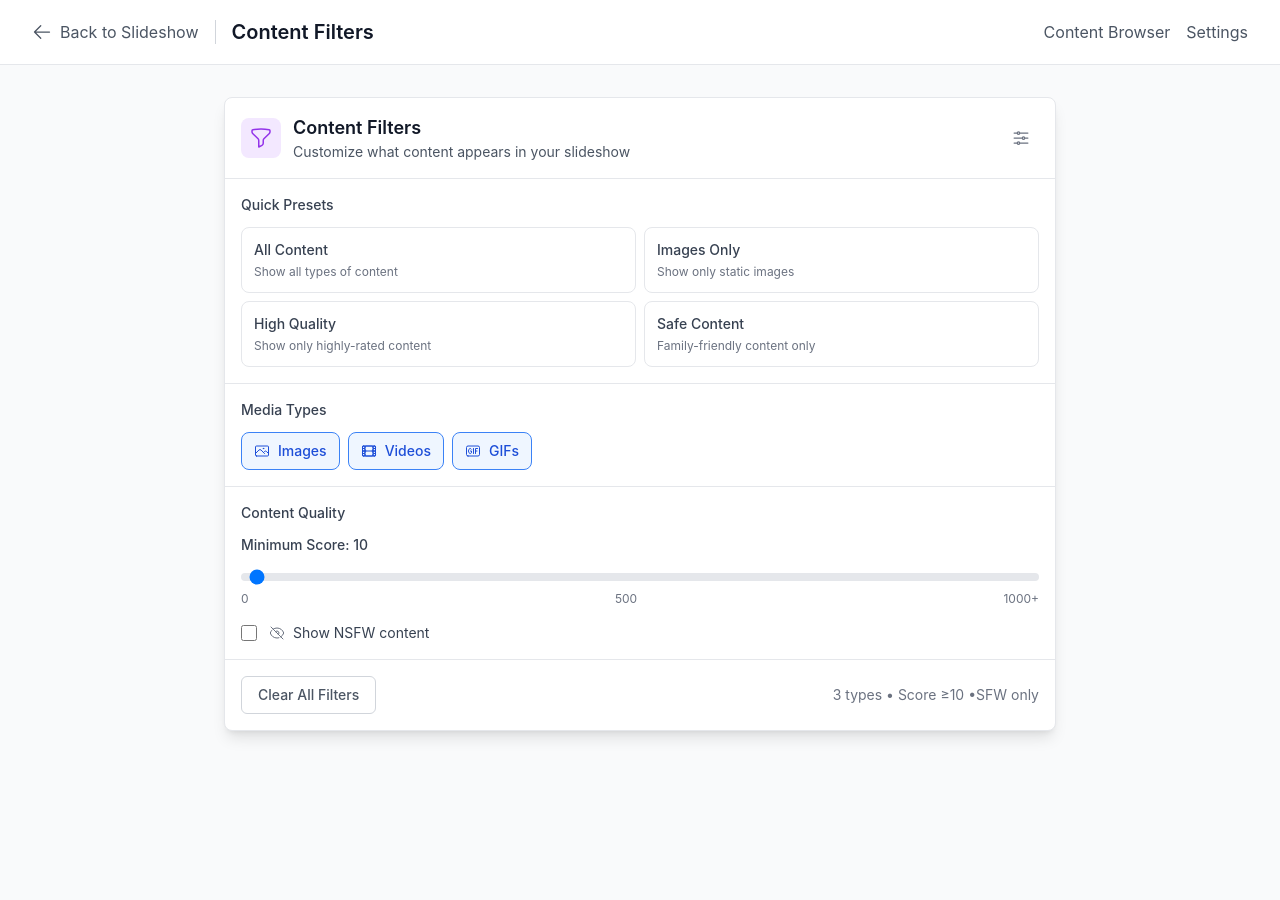
Test: ContentFilters › should show advanced filters when toggled
Click the button titled "Advanced Filters" at coordinates (1021, 138), box [1003, 120, 1039, 156]
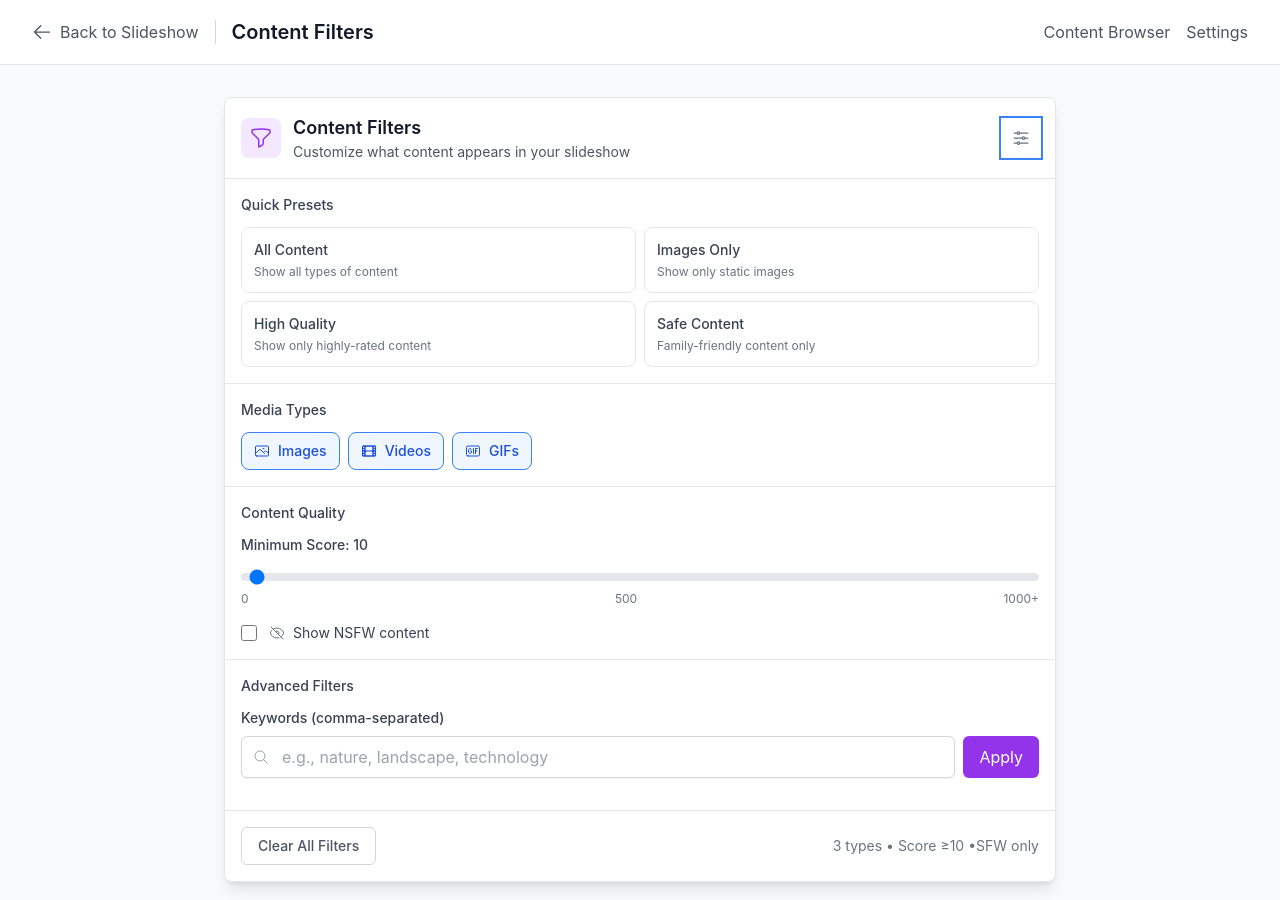
Now the heading "Advanced Filters" is shown, box [241, 677, 354, 694]
Now the text "Keywords (comma-separated)" is shown, box [241, 709, 444, 726]
